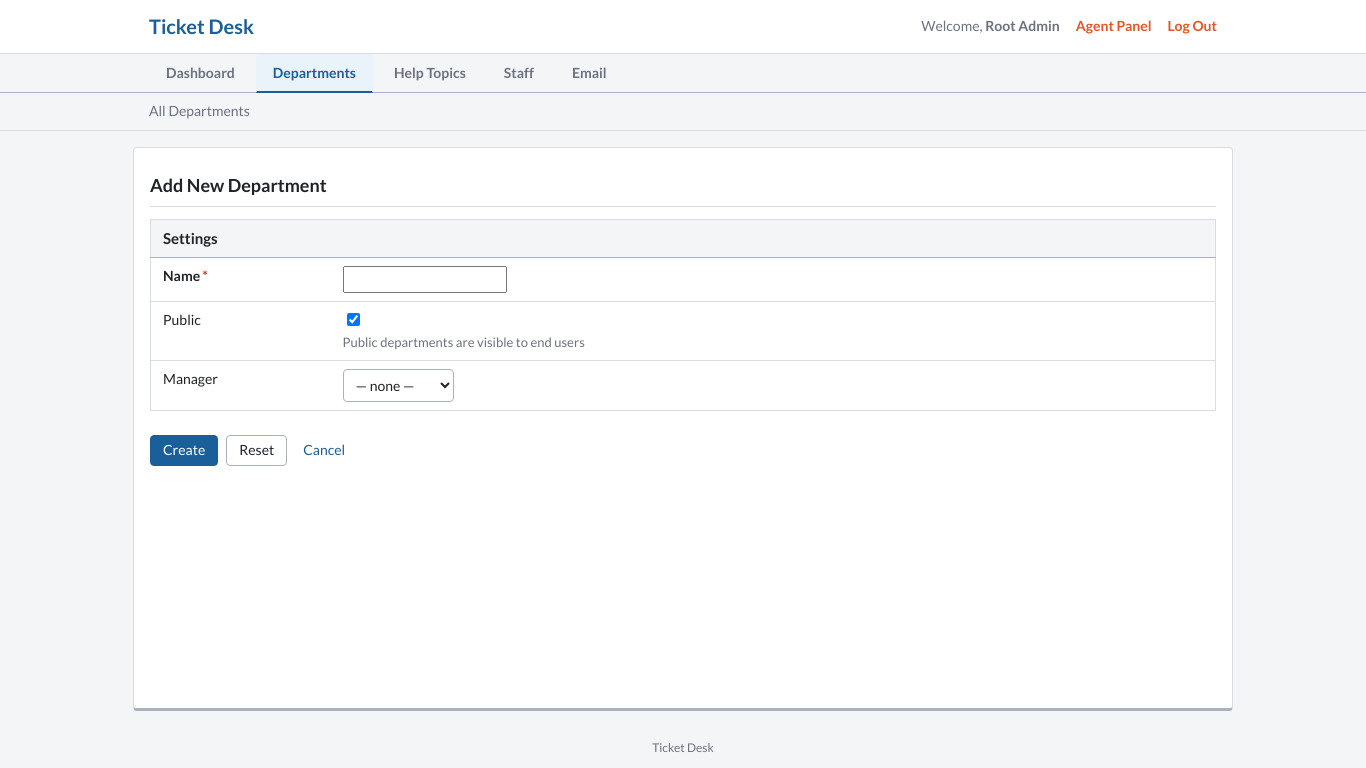
Scenario: a conflict shows in the banner and keeps the form
Type "Support" into the field labelled "Name*" at {"x": 424, "y": 280}, box x1=342 y1=266 x2=506 y2=293
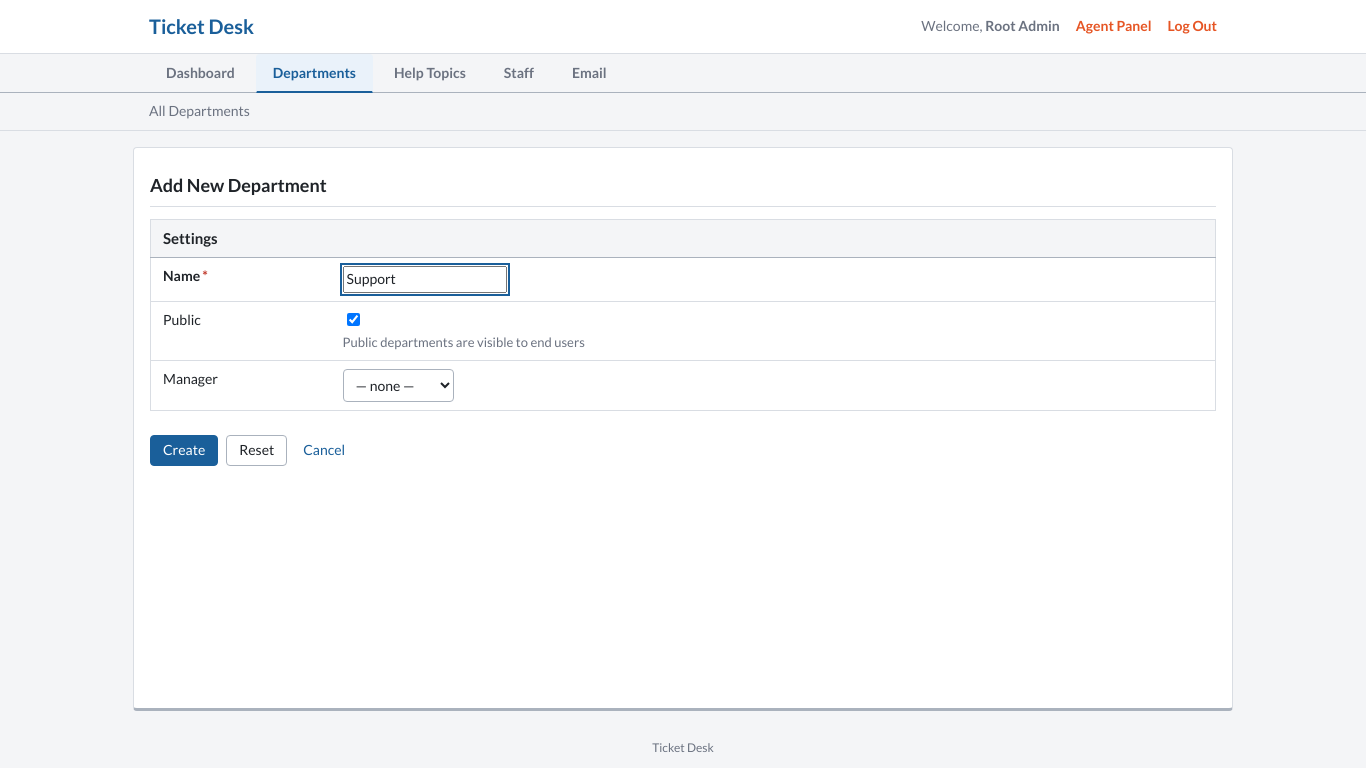
Click the button "Create" at {"x": 184, "y": 450}, box x1=150 y1=435 x2=218 y2=466
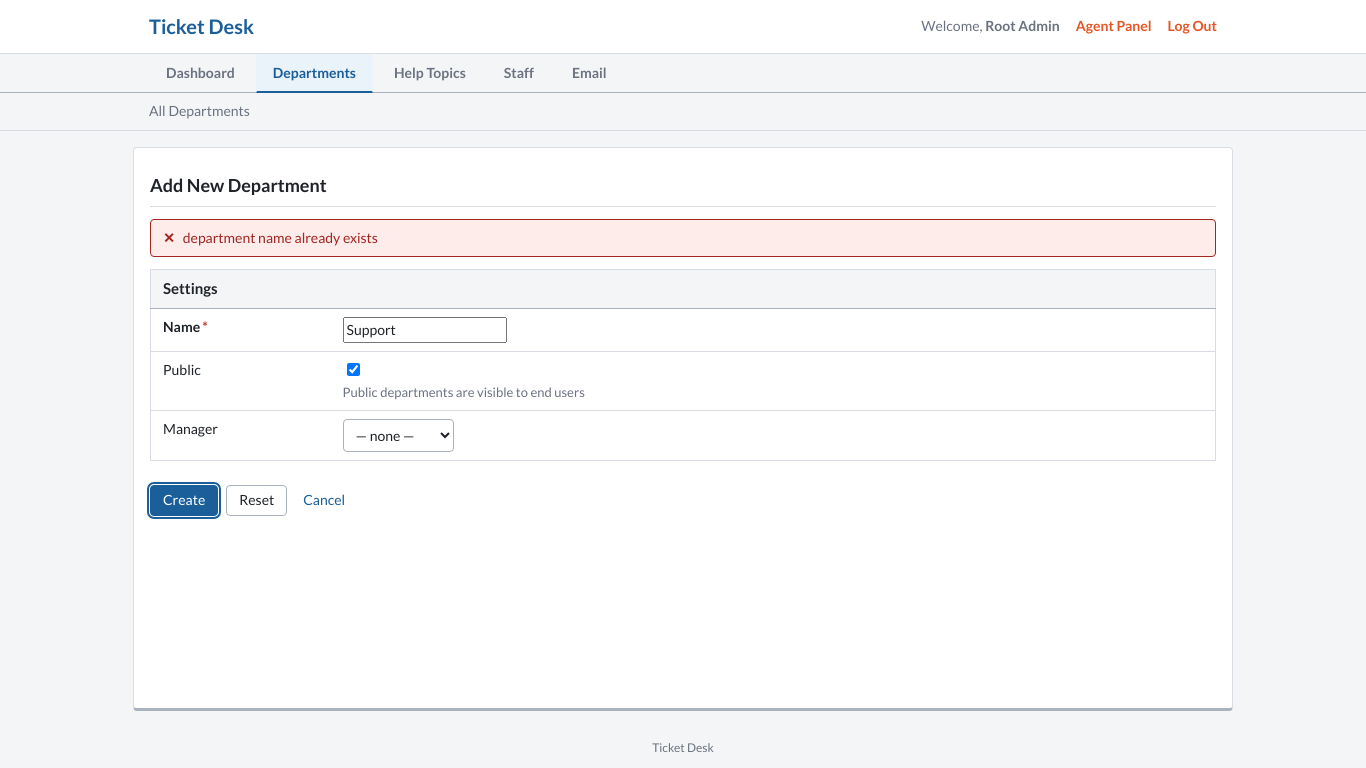
Now the message shows "department name already exists", box x1=183 y1=229 x2=378 y2=246
